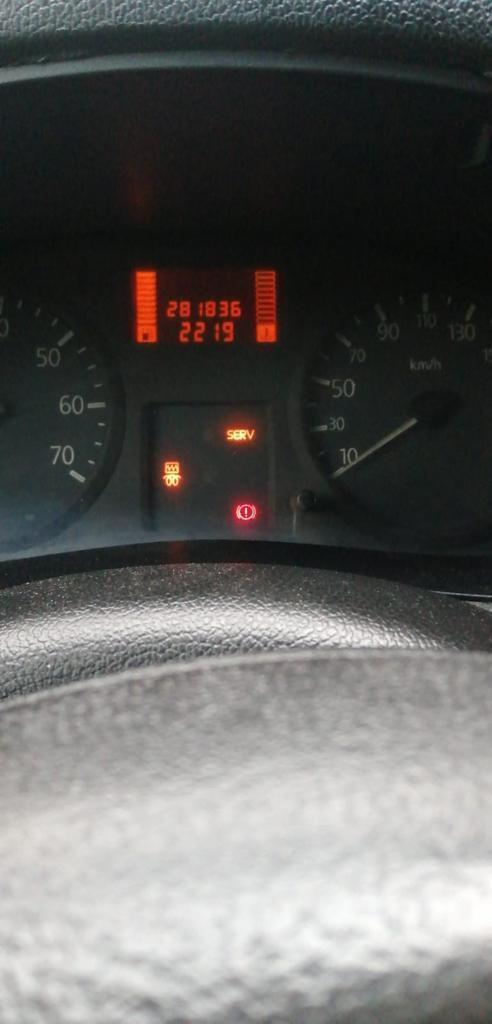1: (213, 321, 220, 342), (197, 301, 204, 317)
2: (192, 320, 206, 343), (178, 320, 191, 342), (165, 300, 177, 317)
3: (218, 300, 229, 317)
6: (230, 300, 241, 317)
8: (178, 300, 190, 317), (204, 300, 215, 317)
9: (221, 320, 234, 342)
odometer: (119, 260, 290, 350)
